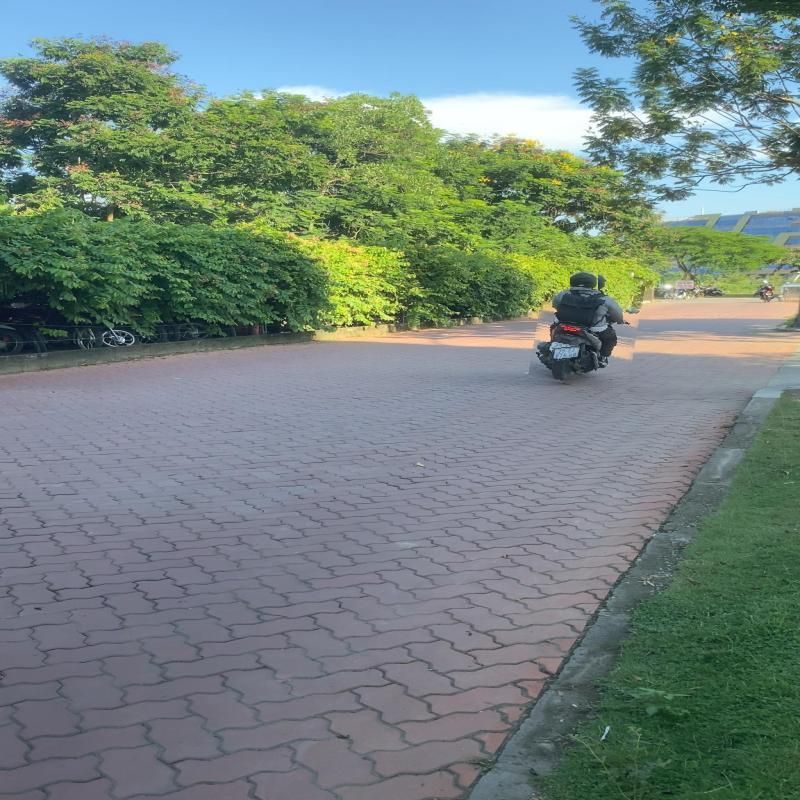helmet: (570, 272, 598, 290)
licenseplate: (552, 346, 581, 360)
motorcyclist: (532, 267, 642, 391)
